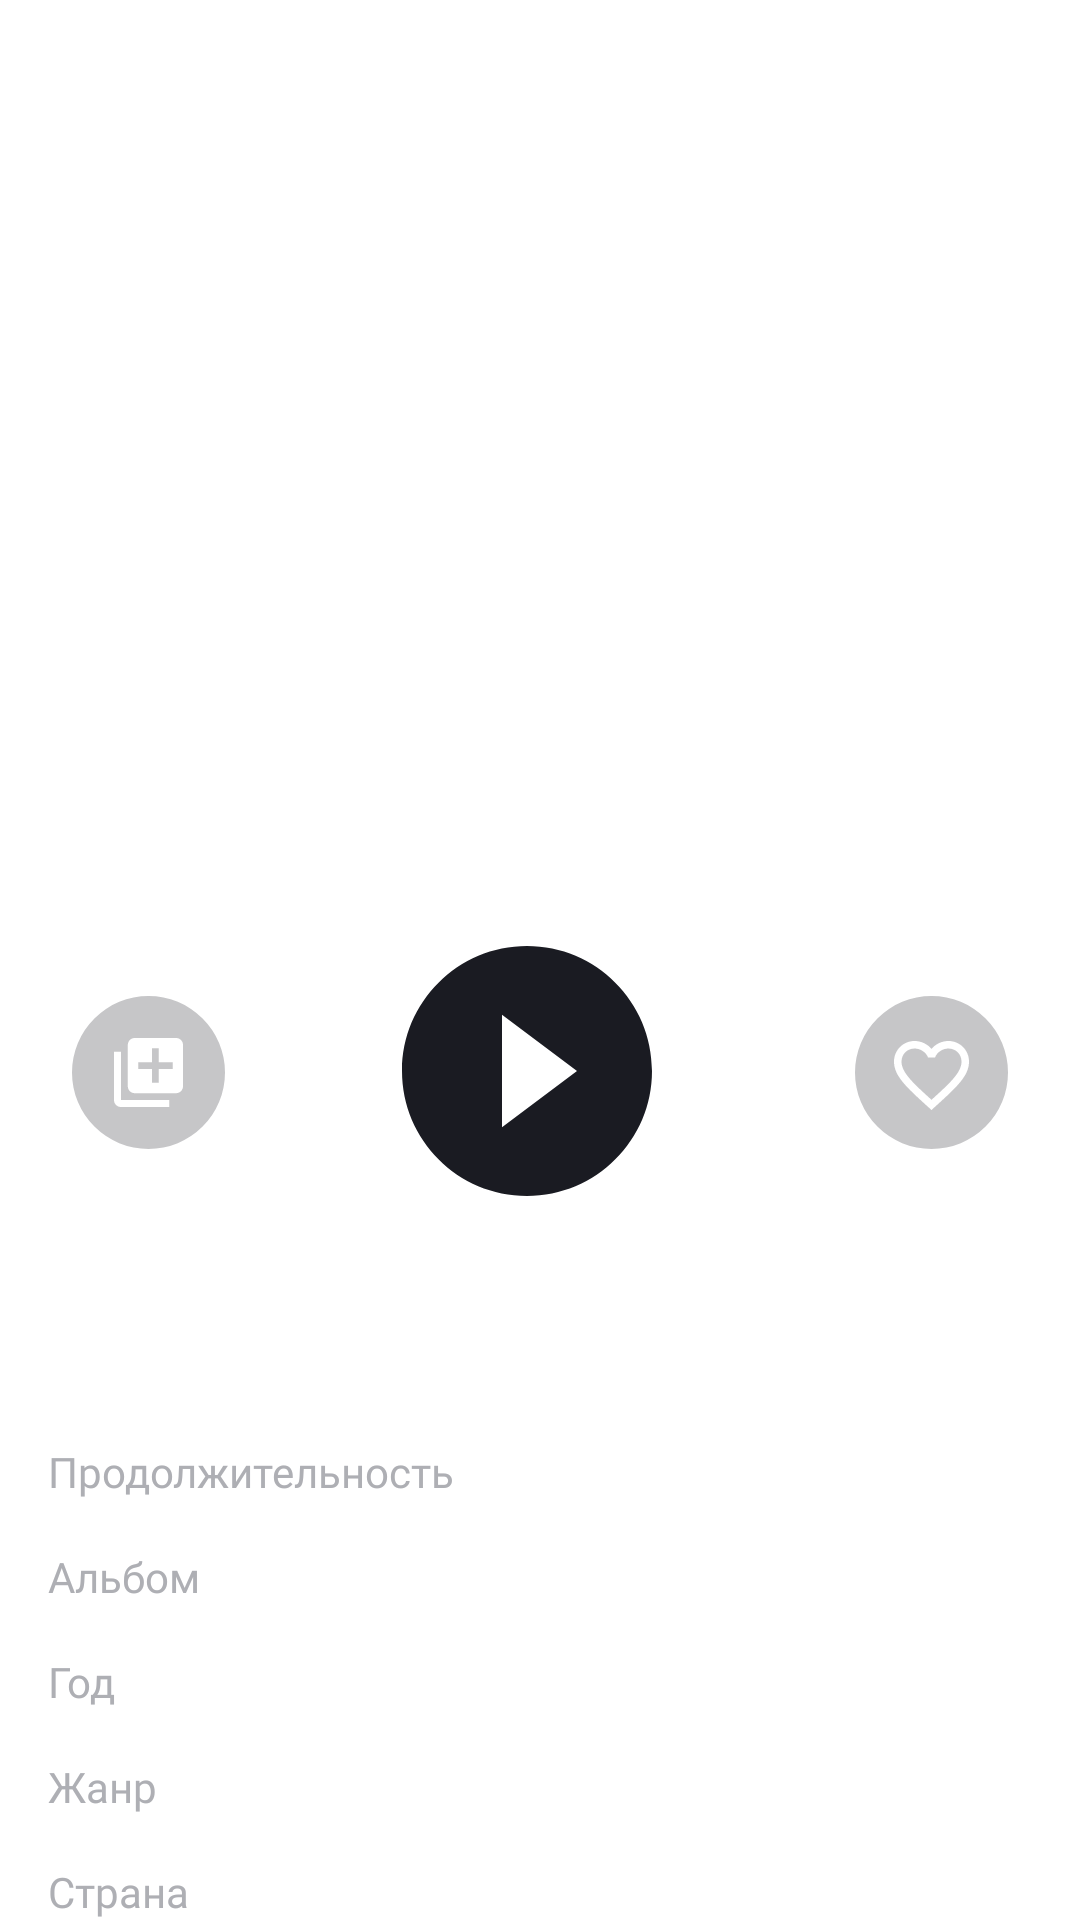

Where icons sit on this 1080px x 1920px app screen, as bbox(x1, y1, x2, y2):
add playlist: bbox(72, 996, 225, 1149)
favourites: bbox(855, 996, 1008, 1149)
play: bbox(402, 946, 652, 1196)
